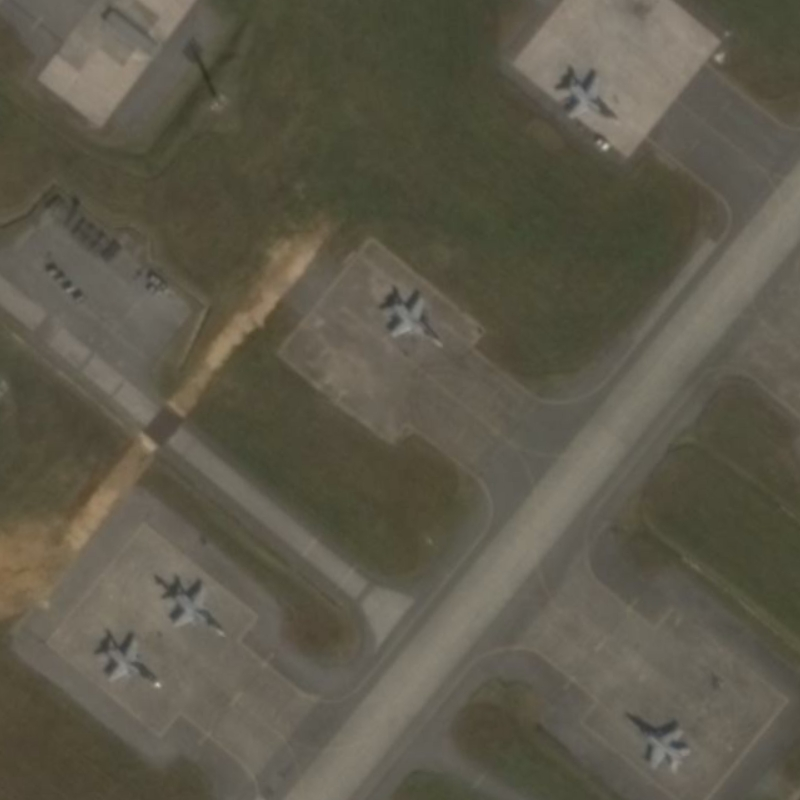A16: (545, 61, 624, 128), (87, 628, 165, 695), (619, 709, 696, 775), (375, 284, 449, 351), (157, 570, 228, 639)
